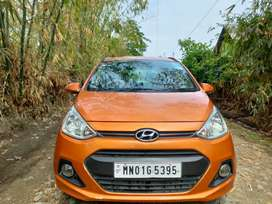MN01G5395: (113, 162, 181, 178)
